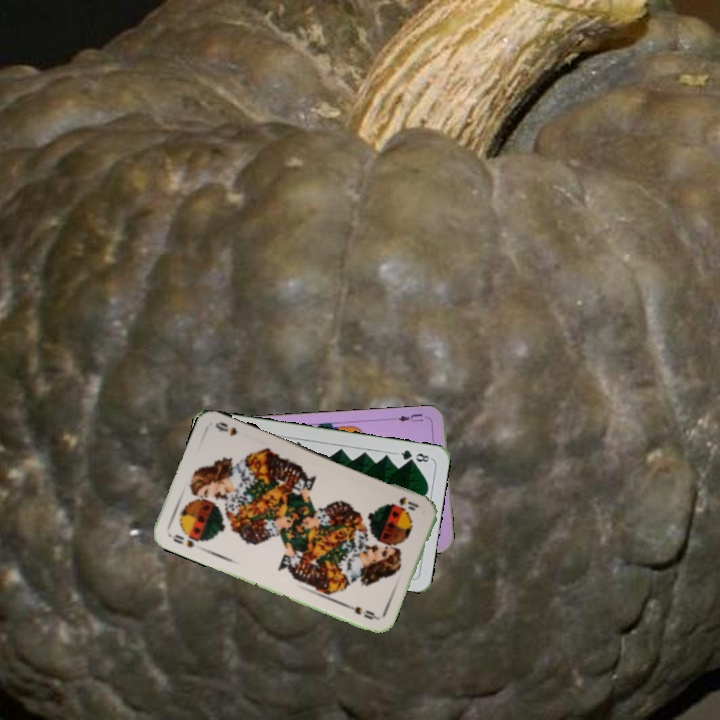EU: (394, 409, 431, 424)
G8: (393, 446, 434, 465)
SO: (165, 530, 201, 550), (387, 493, 422, 513)
